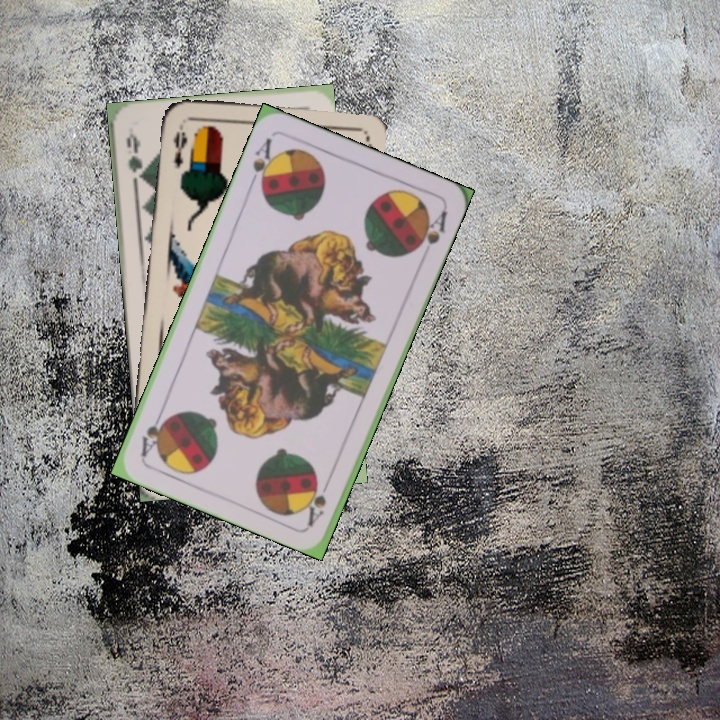EO: (169, 120, 190, 171)
G9: (122, 126, 147, 185)
SA: (245, 133, 279, 193), (304, 472, 335, 528)
